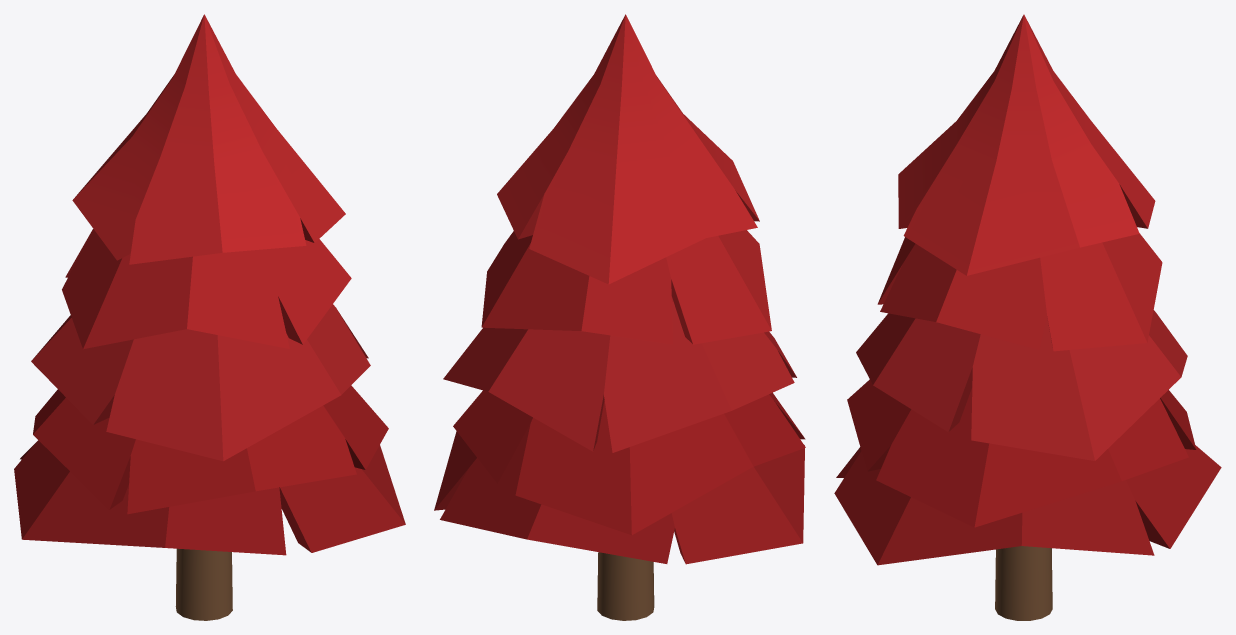
The model's file is Spruce_Red_Thick_3.fbx.
3 renders of one model, left to right at view 1: azimuth 30°, elevation 25°; view 2: azimuth 150°, elevation 25°; view 3: azimuth 270°, elevation 25°, orthographic.
Parts seen in each view (by area): view 1: Cylinder.490, Cylinder.491, Cylinder.492, Cylinder.494, Cylinder.493, Cylinder.495; view 2: Cylinder.490, Cylinder.491, Cylinder.493, Cylinder.492, Cylinder.494, Cylinder.495; view 3: Cylinder.490, Cylinder.491, Cylinder.493, Cylinder.492, Cylinder.494, Cylinder.495.
Part boxes in pixels (x1=…): Cylinder.490: x1=72, y1=14, x2=345, y2=264; Cylinder.491: x1=31, y1=304, x2=370, y2=461; Cylinder.492: x1=62, y1=229, x2=351, y2=349; Cylinder.494: x1=14, y1=440, x2=405, y2=555; Cylinder.493: x1=33, y1=385, x2=388, y2=514; Cylinder.495: x1=175, y1=548, x2=232, y2=620; Cylinder.490: x1=497, y1=14, x2=759, y2=284; Cylinder.491: x1=443, y1=296, x2=796, y2=452; Cylinder.493: x1=453, y1=390, x2=805, y2=535; Cylinder.492: x1=481, y1=230, x2=771, y2=344; Cylinder.494: x1=434, y1=431, x2=804, y2=564; Cylinder.495: x1=597, y1=552, x2=654, y2=620; Cylinder.490: x1=898, y1=14, x2=1155, y2=275; Cylinder.491: x1=856, y1=310, x2=1187, y2=460; Cylinder.493: x1=847, y1=379, x2=1196, y2=527; Cylinder.492: x1=877, y1=233, x2=1162, y2=351; Cylinder.494: x1=834, y1=445, x2=1221, y2=565; Cylinder.495: x1=995, y1=546, x2=1052, y2=620.
Bounding box in the file's own units: 347 × 567 × 334.
